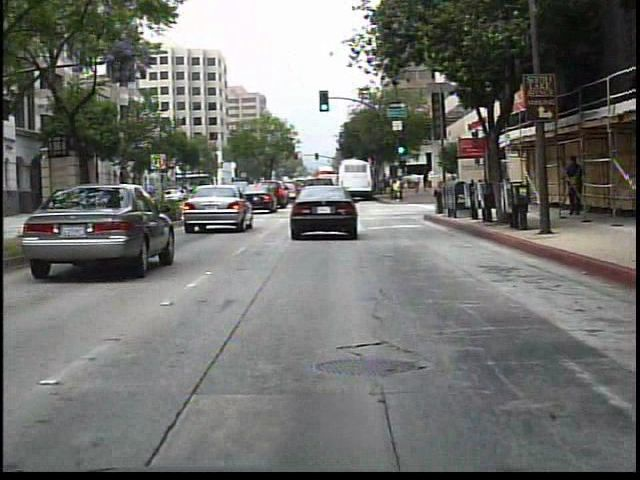person: (559, 153, 589, 221)
